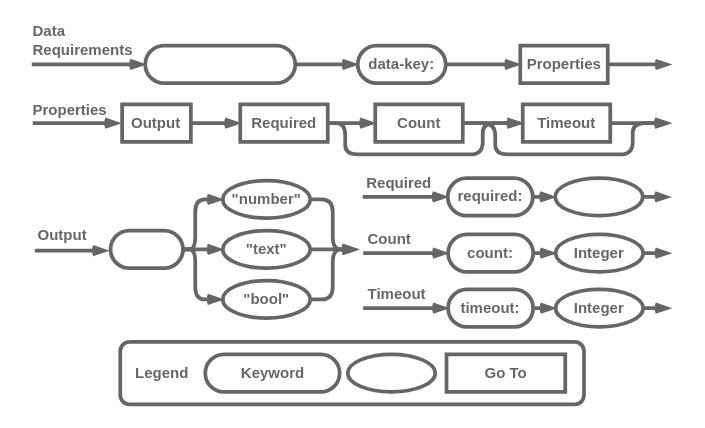
This 705x428 diagram has some shape labels left out. The shapes that lost their labels are listed below. From the top down, each one's box as (x1, y1, x2, y2) in pixels, then its label:
(143, 43, 296, 84): data-requirements:
(553, 176, 644, 217): Boolean
(108, 228, 184, 269): output:
(345, 352, 436, 393): expr
